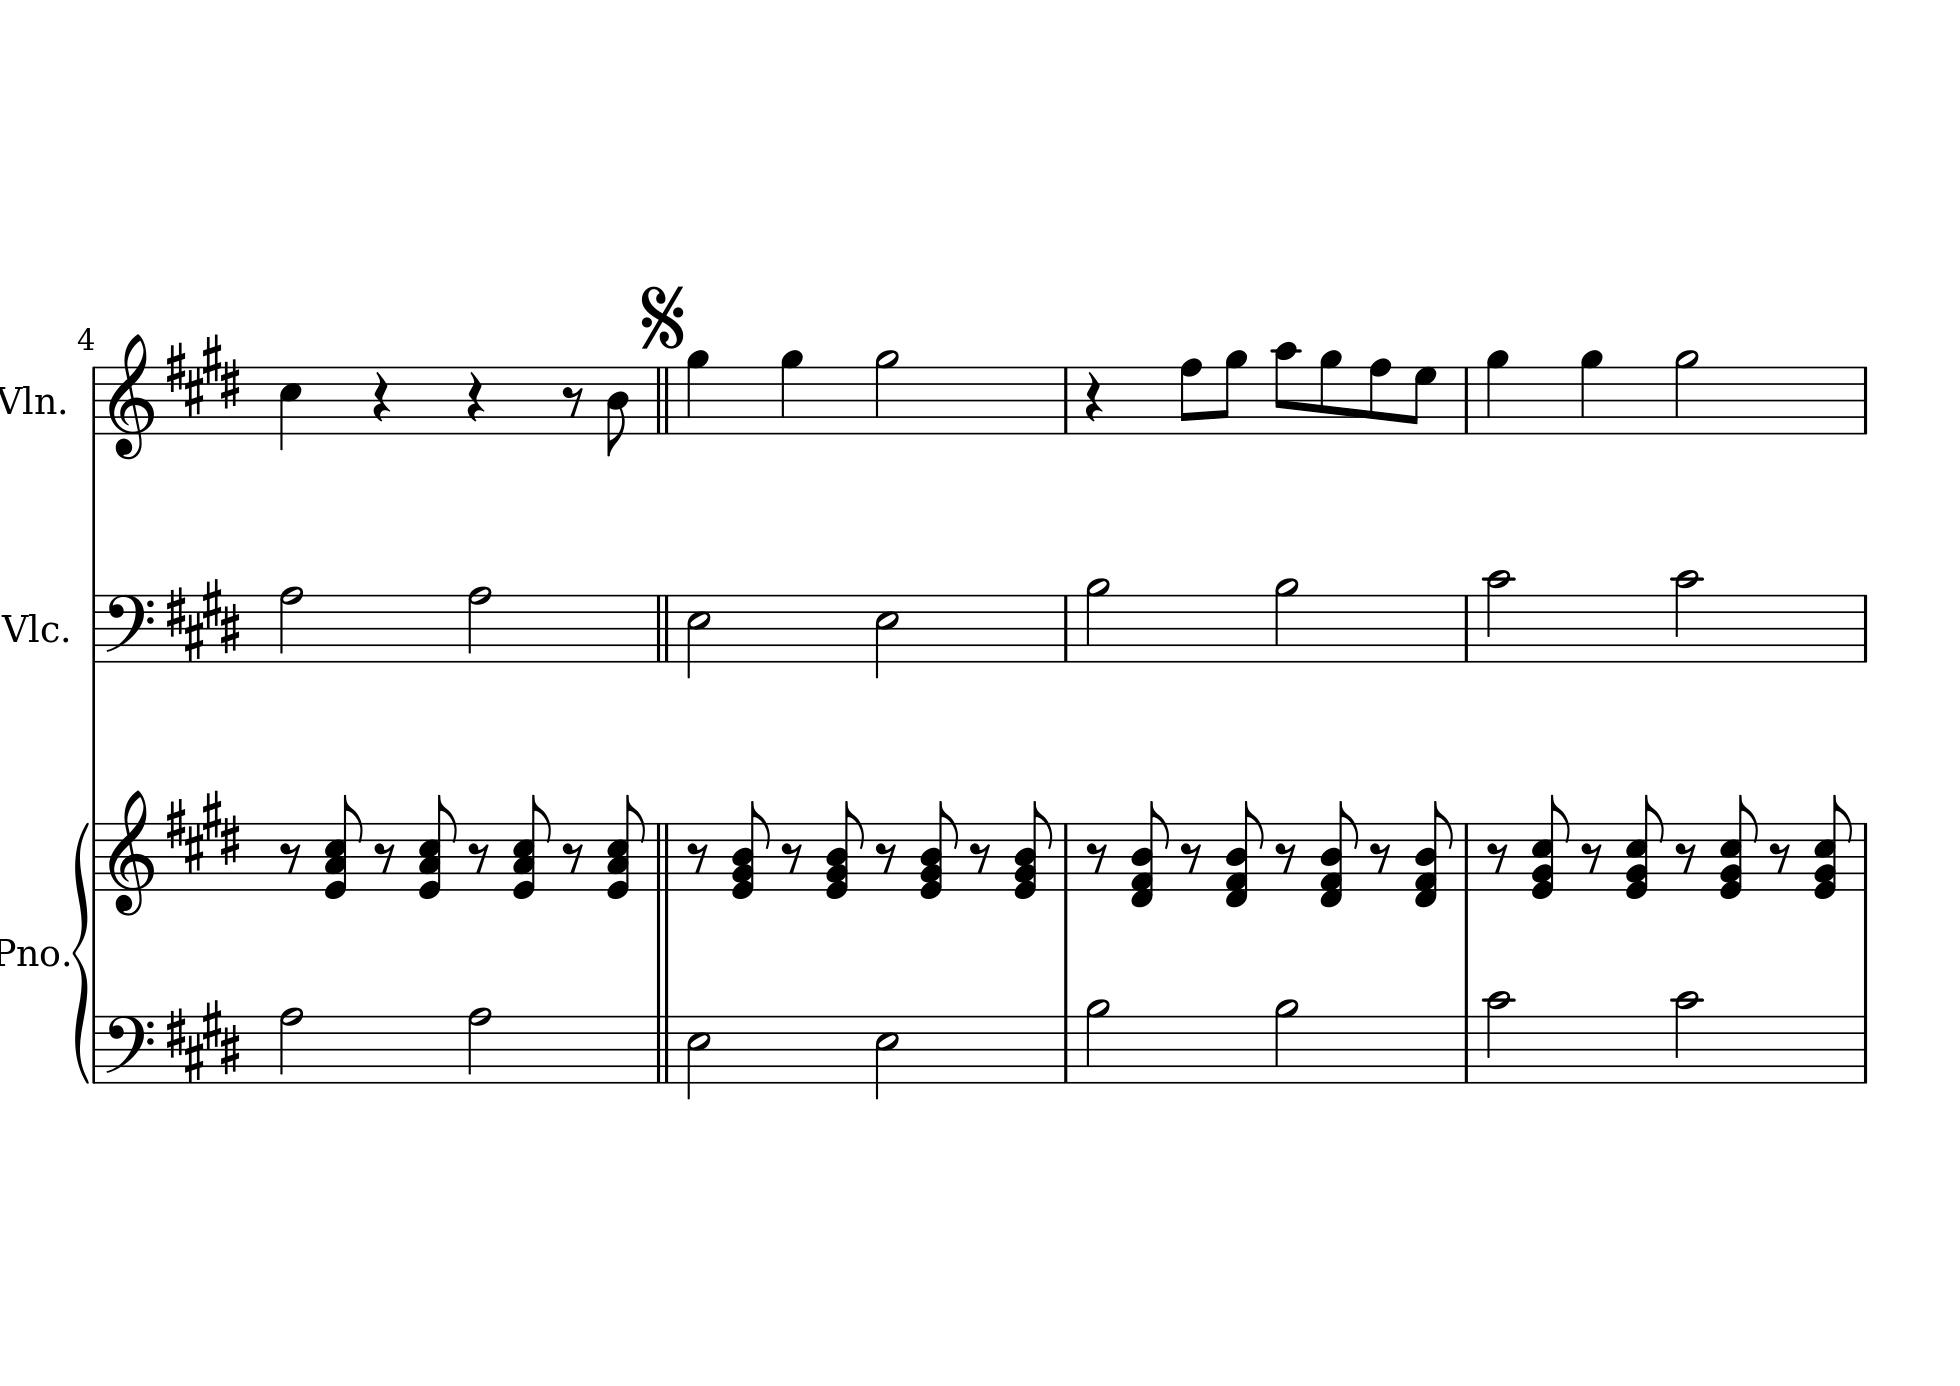2_10: (1672, 988, 1704, 1086), (1485, 988, 1515, 1087), (1672, 567, 1702, 664), (1485, 567, 1513, 664)
2_5: (685, 592, 711, 679), (873, 592, 898, 679), (685, 1015, 711, 1101), (873, 1014, 898, 1099)
2_8: (466, 583, 492, 664), (277, 1003, 303, 1084), (277, 583, 303, 663), (466, 1005, 492, 1084)
2_9: (871, 346, 900, 436), (1273, 997, 1302, 1086), (1674, 346, 1701, 436), (1084, 576, 1111, 664), (1273, 576, 1300, 664), (1084, 997, 1111, 1086)
4_5: (277, 364, 303, 451)
4_9: (778, 346, 805, 436), (1578, 346, 1605, 436), (1485, 348, 1510, 436), (685, 348, 709, 436)
8_10: (1272, 340, 1299, 436)
8_4: (604, 366, 630, 457)
8_7: (1407, 364, 1437, 435)
8_8: (1368, 355, 1392, 436), (1179, 357, 1203, 436)
8_9: (1216, 349, 1248, 436), (1318, 349, 1344, 435)
8_th: (1128, 799, 1173, 910), (1317, 799, 1362, 910), (1222, 799, 1267, 910), (1621, 795, 1668, 901), (1527, 793, 1572, 901), (508, 795, 553, 901), (1716, 796, 1761, 901), (915, 801, 961, 901), (1413, 799, 1455, 910), (415, 795, 459, 901), (604, 793, 646, 901), (322, 793, 364, 901), (1810, 796, 1854, 900), (822, 802, 867, 901), (1011, 799, 1054, 901), (729, 802, 772, 901)
Brace: (70, 820, 91, 1083)
Double_barline: (649, 1014, 675, 1083), (649, 592, 673, 661), (652, 364, 675, 433), (652, 822, 673, 891)
E_S: (160, 334, 243, 415), (163, 787, 241, 873), (163, 577, 241, 661), (163, 997, 241, 1081)
Fclef: (103, 592, 154, 664), (103, 1012, 154, 1084)
Gclef: (106, 789, 156, 916), (106, 333, 154, 460)
Pno: (1, 934, 58, 970)
Rests4: (1083, 370, 1104, 426), (370, 370, 391, 424), (465, 370, 486, 424)
Rests8: (1368, 840, 1395, 876), (1179, 840, 1206, 874), (466, 840, 492, 876), (967, 840, 993, 876), (1084, 840, 1110, 876), (1579, 840, 1605, 876), (1674, 840, 1699, 876), (277, 840, 303, 874), (372, 840, 397, 874), (561, 840, 586, 874), (685, 840, 711, 874), (780, 840, 805, 874), (1485, 840, 1510, 874), (1768, 840, 1794, 874), (1275, 840, 1299, 876), (874, 840, 898, 874), (562, 384, 585, 418)
Segno: (636, 280, 688, 349)
Single_barline: (1057, 366, 1075, 433), (1458, 366, 1476, 433), (1855, 366, 1873, 433), (1458, 594, 1476, 661), (1458, 823, 1476, 889), (1458, 1015, 1476, 1081), (1057, 1015, 1075, 1081), (1857, 820, 1873, 889), (1857, 594, 1873, 661), (1057, 823, 1074, 889), (1857, 1015, 1873, 1081), (1059, 595, 1075, 660), (87, 595, 102, 663), (87, 364, 100, 433), (88, 822, 102, 889), (88, 1015, 102, 1083)
Vlc: (1, 606, 60, 648)
Vln: (1, 379, 57, 421)
